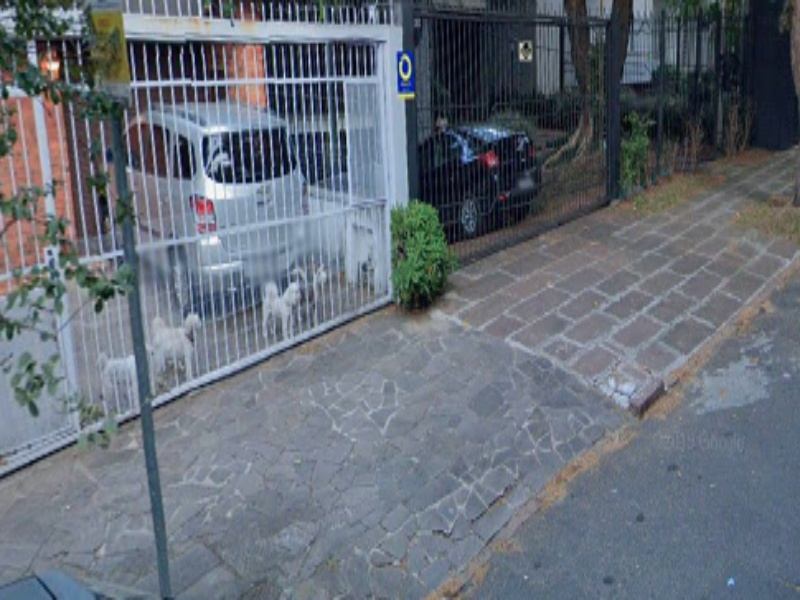g36: (403, 399, 641, 600)
g37: (650, 228, 793, 386)
